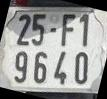-: (50, 28, 56, 32)
0: (75, 52, 87, 83)
1: (80, 14, 87, 46)
2: (17, 14, 30, 44)
4: (54, 52, 67, 84)
5: (32, 14, 44, 45)
6: (34, 52, 47, 83)
9: (15, 52, 27, 83)
F: (61, 14, 75, 46)
